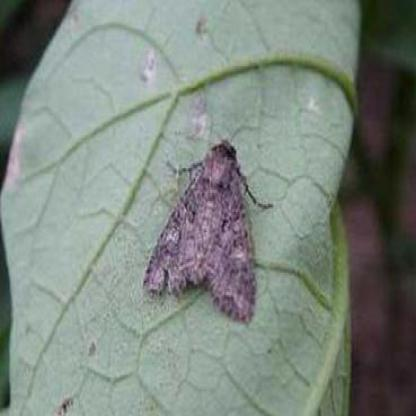armyworm: (143, 135, 262, 326)
